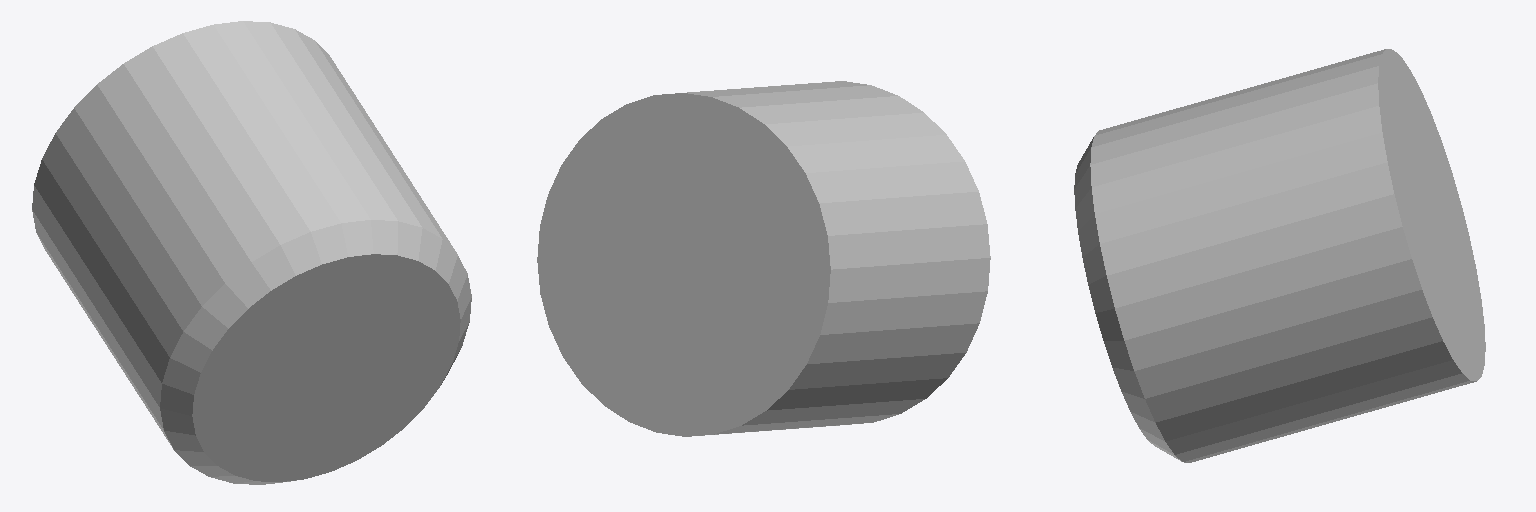
Rendered from planeYokeButton.obj.
3 views of the same model, side by side, from view 1: azimuth 30°, elevation 25°; view 2: azimuth 150°, elevation 25°; view 3: azimuth 270°, elevation 25° (orthographic).
Parts seen in each view (by area): view 1: Cylinder.075_Cylinder.065; view 2: Cylinder.075_Cylinder.065; view 3: Cylinder.075_Cylinder.065.
Part boxes in pixels (x1,y1,x2,y2): Cylinder.075_Cylinder.065: (32,21,471,484); Cylinder.075_Cylinder.065: (537,81,990,436); Cylinder.075_Cylinder.065: (1074,49,1485,462).
Size of the model in its own units: 0.8587 by 1.01 by 0.9744.